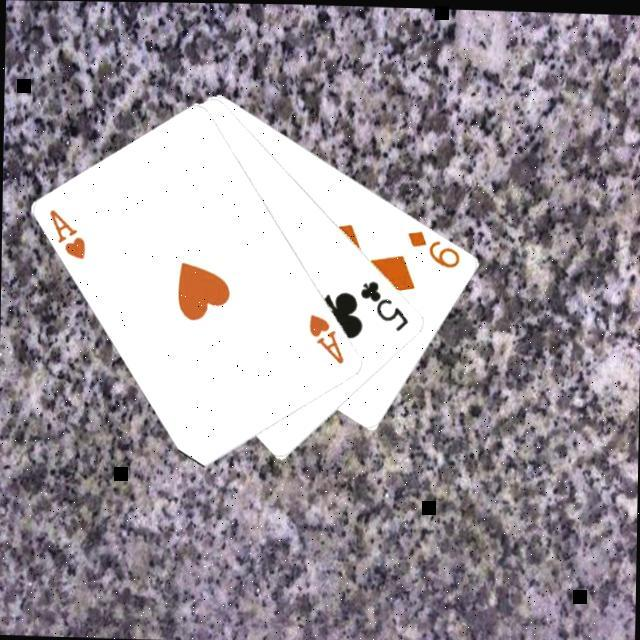5C: (356, 274, 412, 332)
9D: (402, 223, 463, 270)
AH: (44, 204, 89, 262), (304, 308, 348, 366)
